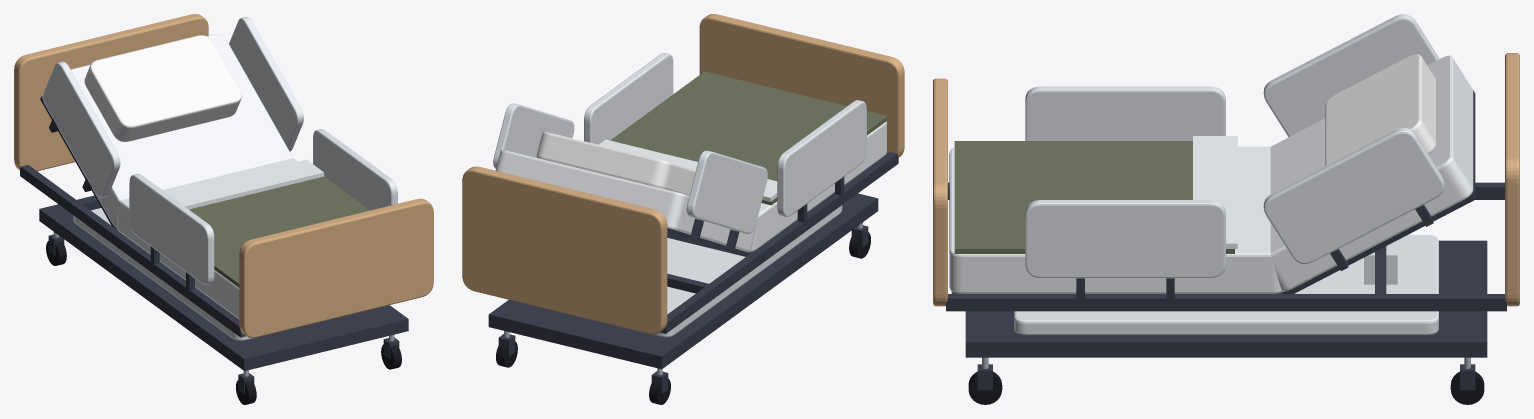
File: hos-003.glb
3 renders of one model, left to right at view 1: azimuth 30°, elevation 25°; view 2: azimuth 150°, elevation 25°; view 3: azimuth 270°, elevation 25°, orthographic. The views are drawn at different scales.
Visible parts, largest first — view 1: beech, bed_frame, bed_sheet, dark_steel, pillow, prison_blanket, rubber; view 2: beech, bed_frame, dark_steel, prison_blanket, bed_sheet, pillow, rubber; view 3: bed_frame, dark_steel, bed_sheet, prison_blanket, pillow, beech, rubber.
Part boxes in pixels (<box>): beech: <box>14,14,433,337</box>; bed_frame: <box>43,17,397,340</box>; bed_sheet: <box>42,34,324,319</box>; dark_steel: <box>20,96,408,394</box>; pillow: <box>84,35,241,141</box>; prison_blanket: <box>189,176,370,287</box>; rubber: <box>46,241,401,404</box>; beech: <box>462,14,904,334</box>; bed_frame: <box>493,53,866,337</box>; dark_steel: <box>488,152,898,393</box>; prison_blanket: <box>610,71,887,205</box>; bed_sheet: <box>495,121,886,252</box>; pillow: <box>536,131,695,195</box>; rubber: <box>496,232,870,404</box>; bed_frame: <box>1014,14,1444,334</box>; dark_steel: <box>946,90,1506,390</box>; bed_sheet: <box>949,55,1473,293</box>; prison_blanket: <box>954,141,1234,253</box>; pillow: <box>1325,54,1436,165</box>; beech: <box>933,53,1519,306</box>; rubber: <box>968,371,1484,404</box>.
Bounding box in the file's own units: 0.9975 × 1.12 × 2.09.
